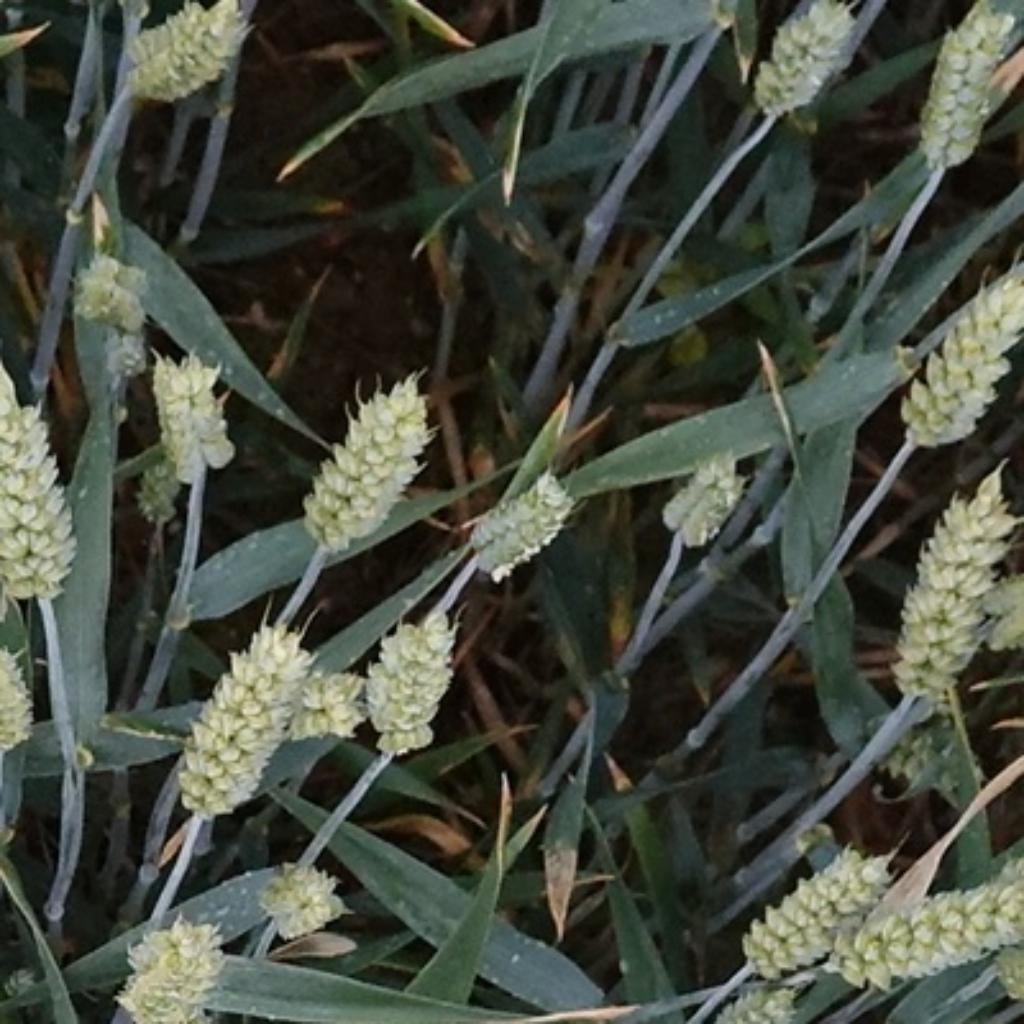0-0: (138, 606, 317, 826), (872, 463, 1024, 709), (286, 358, 450, 555), (880, 264, 1024, 455), (808, 870, 1024, 995), (732, 834, 893, 975), (0, 337, 82, 612), (906, 2, 1024, 183), (353, 596, 467, 761), (742, 2, 868, 127), (104, 901, 227, 1024), (455, 468, 578, 583), (138, 343, 238, 481), (127, 5, 251, 103), (661, 451, 751, 554), (294, 655, 378, 760), (869, 712, 960, 808), (71, 240, 158, 340), (250, 860, 348, 947), (693, 965, 806, 1024), (86, 324, 159, 406), (0, 629, 43, 765), (128, 453, 192, 537), (968, 571, 1024, 654), (0, 950, 55, 1018)
